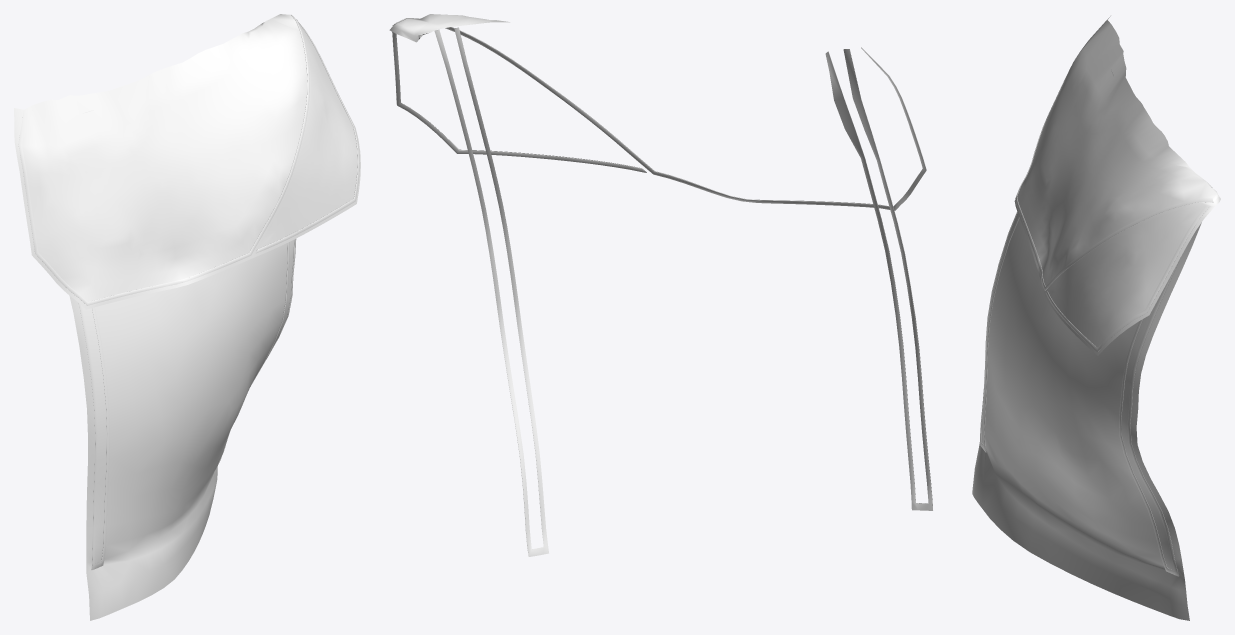
File: Jac_Pocket_RIGHT_V1.glb
3 renders of one model, left to right at view 1: azimuth 30°, elevation 25°; view 2: azimuth 150°, elevation 25°; view 3: azimuth 270°, elevation 25°, orthographic. The views are drawn at different scales.
Visible parts, largest first — view 1: Jac_Pocket_RIGHT_V1.001, Jac_Rope_Pocket_RIGHT_V1.001; view 2: Jac_Rope_Pocket_RIGHT_V1.001, Jac_Pocket_RIGHT_V1.001; view 3: Jac_Pocket_RIGHT_V1.001, Jac_Rope_Pocket_RIGHT_V1.001.
Part boxes in pixels (x1,y1,x2,y2): Jac_Pocket_RIGHT_V1.001: (14, 14, 360, 620); Jac_Rope_Pocket_RIGHT_V1.001: (18, 14, 359, 569); Jac_Rope_Pocket_RIGHT_V1.001: (392, 18, 932, 556); Jac_Pocket_RIGHT_V1.001: (389, 14, 509, 42); Jac_Pocket_RIGHT_V1.001: (972, 16, 1220, 620); Jac_Rope_Pocket_RIGHT_V1.001: (980, 20, 1213, 576).
Size of the model in its own units: 0.2239 by 0.2756 by 0.1264.
Materials: 2 (2 with a texture image).
